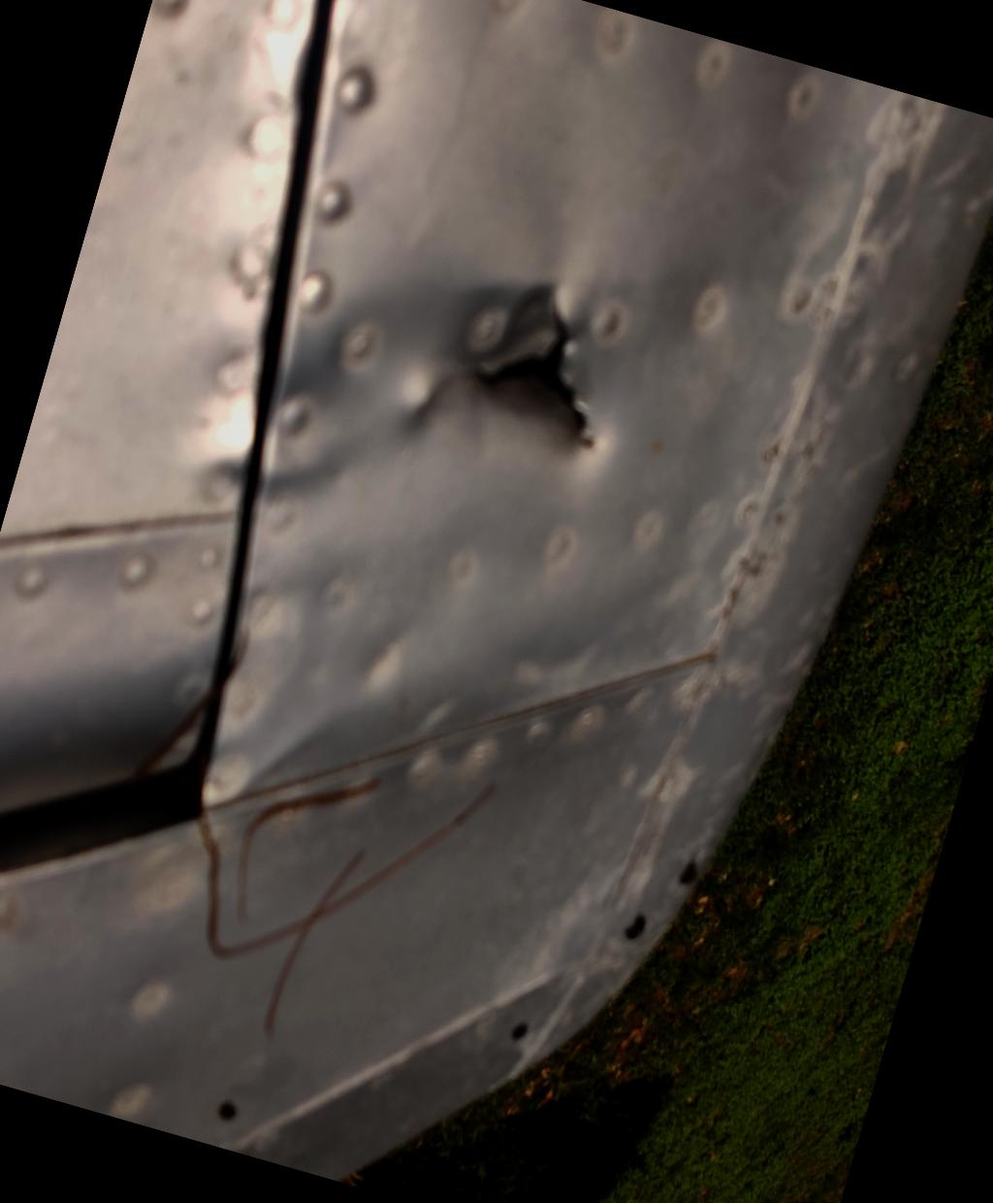crack: (607, 429, 829, 685)
